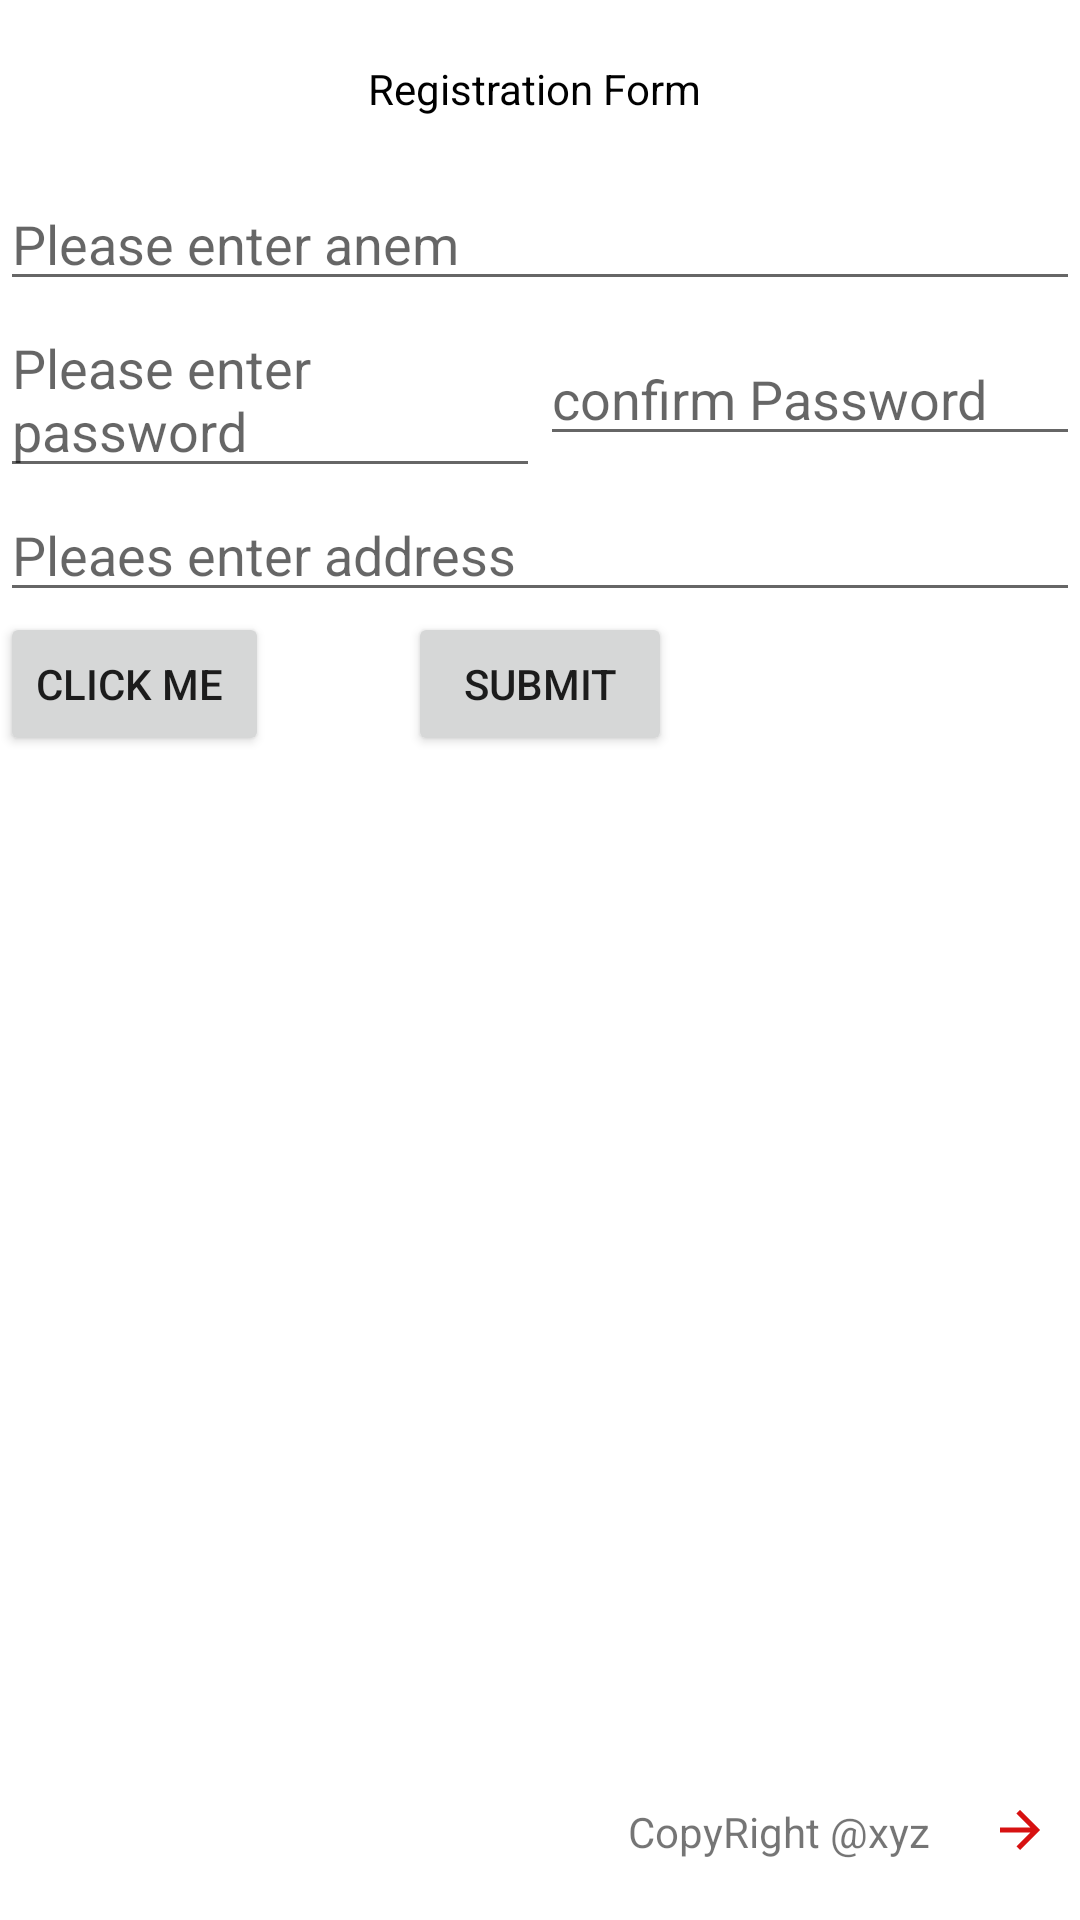

Locate icon controls on the screen. Image size 1080 x 1920, boxes as (x1, y1, x2, y2).
arrowimg: (1000, 1810, 1040, 1850)
